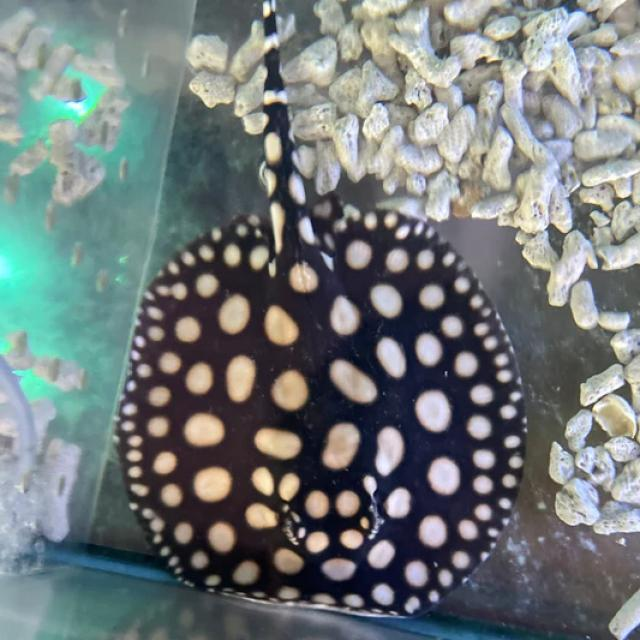black-diamond-sting-ray: (85, 0, 553, 625)
